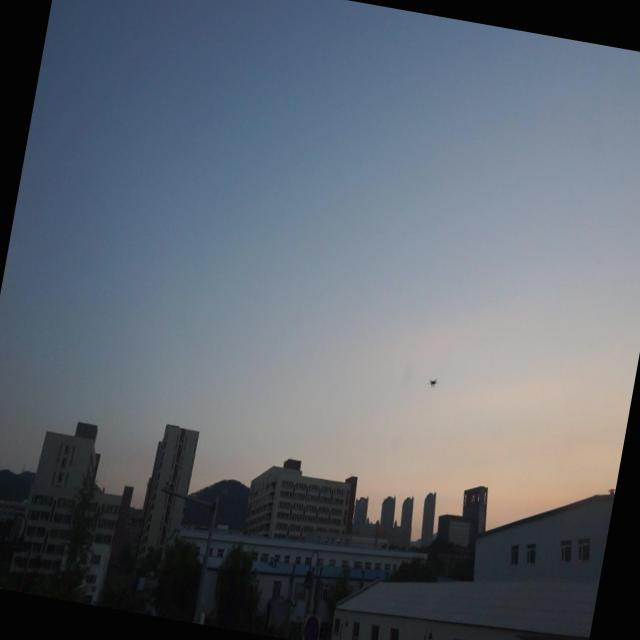drone: (424, 371, 441, 393)
